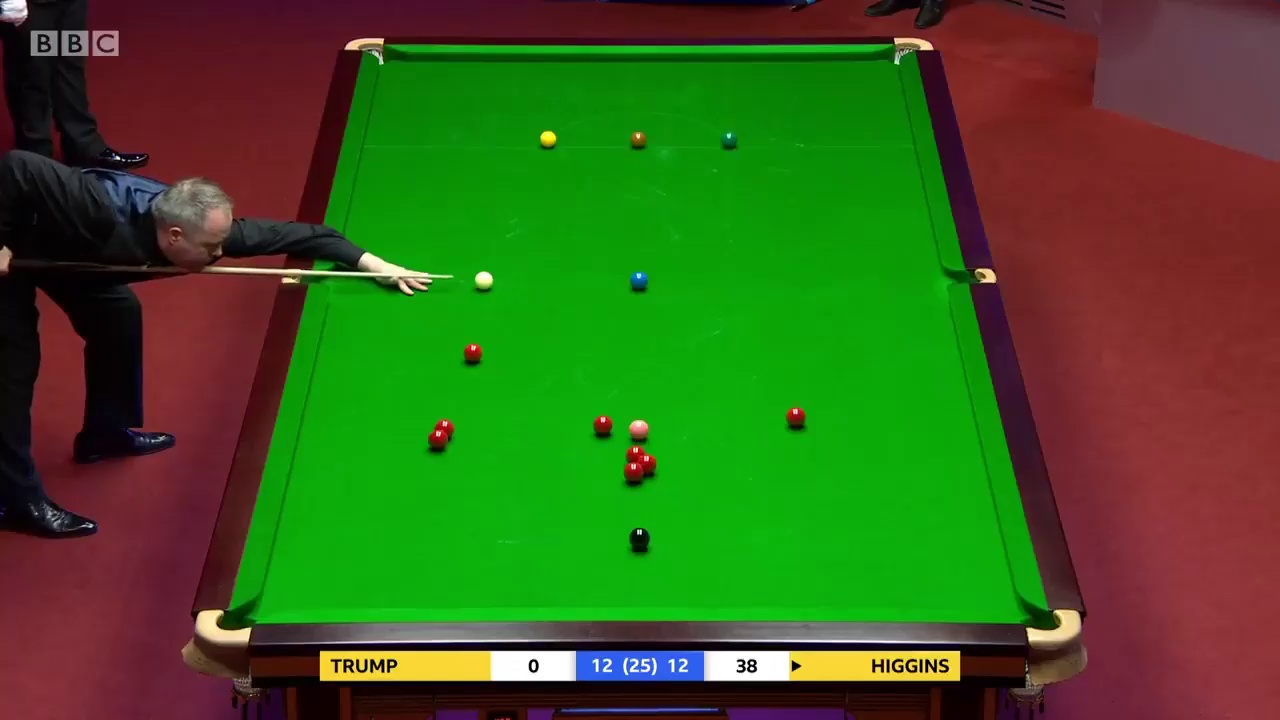ball: (625, 528, 654, 553), (460, 340, 489, 363), (625, 417, 651, 440), (783, 404, 806, 428), (470, 272, 494, 293), (627, 269, 653, 288), (716, 129, 741, 148), (623, 460, 642, 484), (628, 130, 648, 151), (535, 129, 557, 148), (593, 417, 613, 436), (428, 429, 447, 447)
